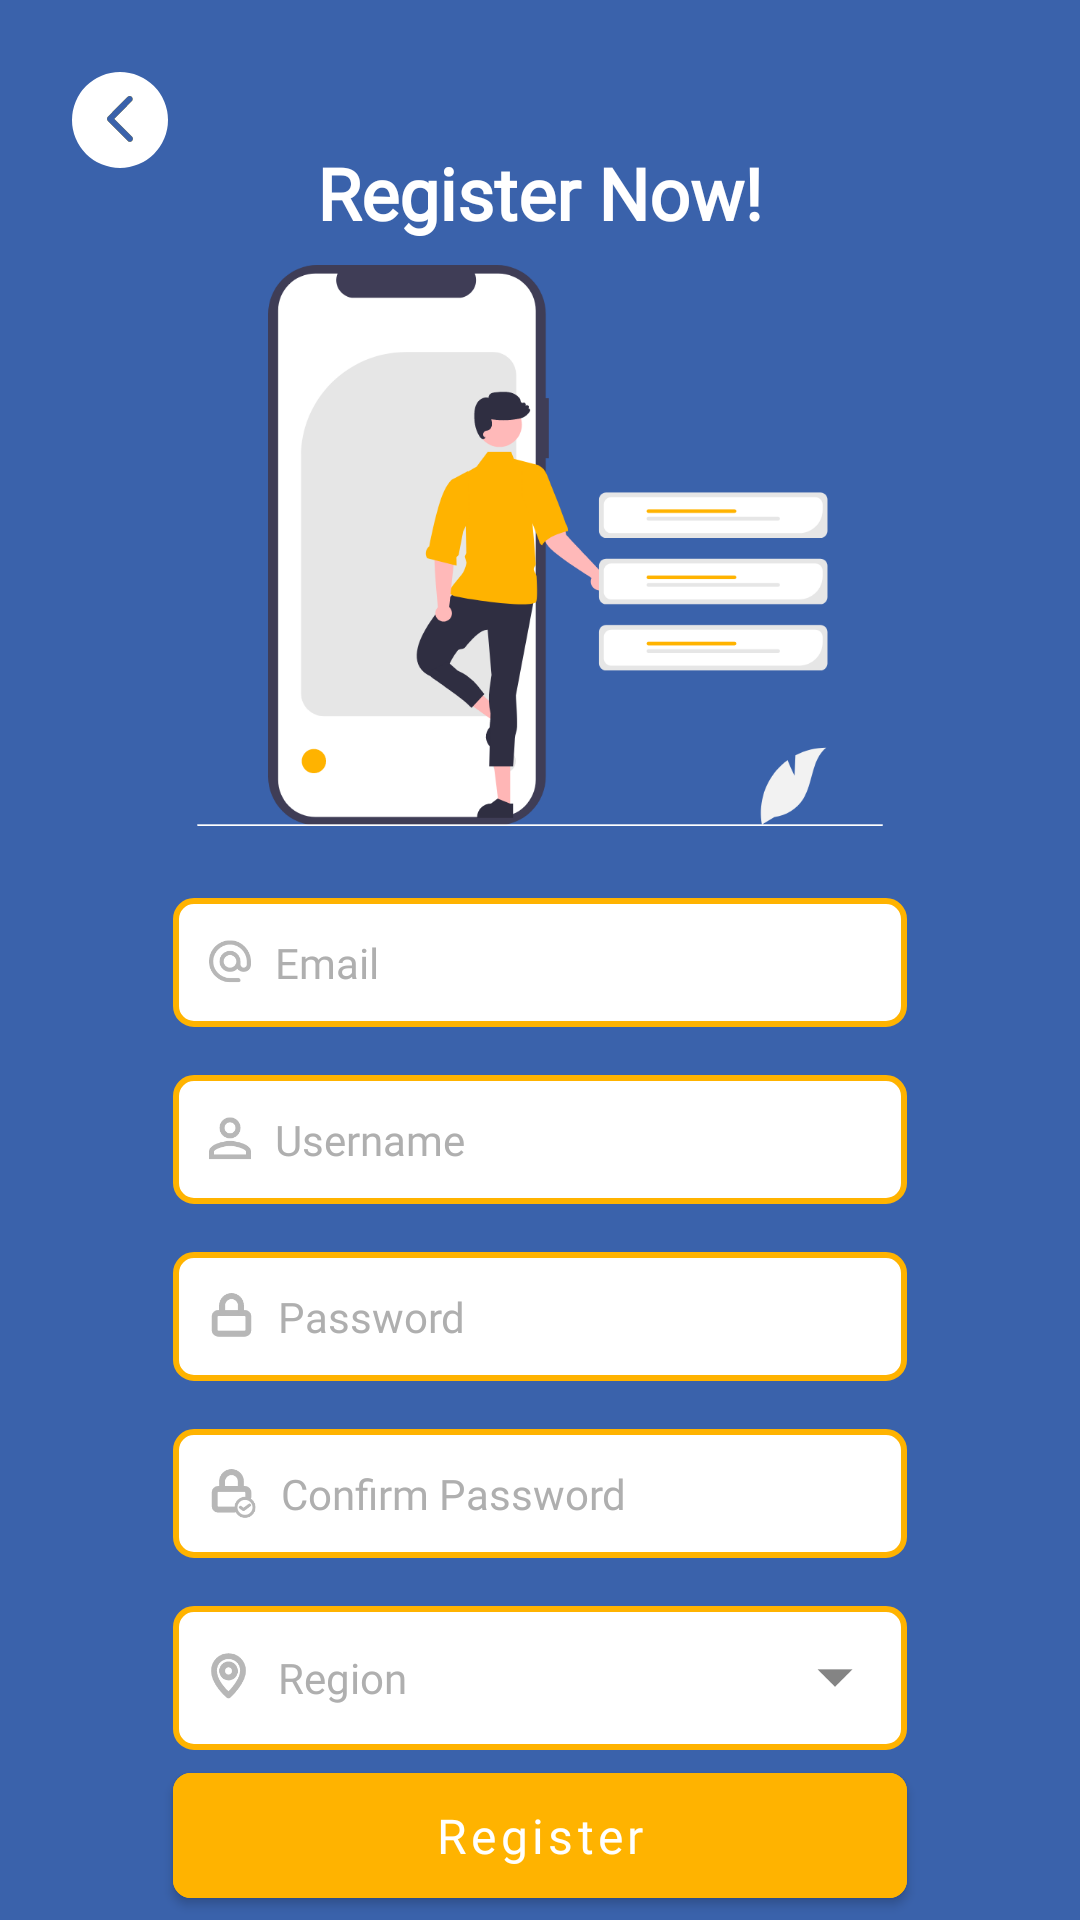

Screen size 1080x1920. Icon name, then its box in pixels as (x1, y1, x2, y2):
back register: (72, 72, 168, 168)
